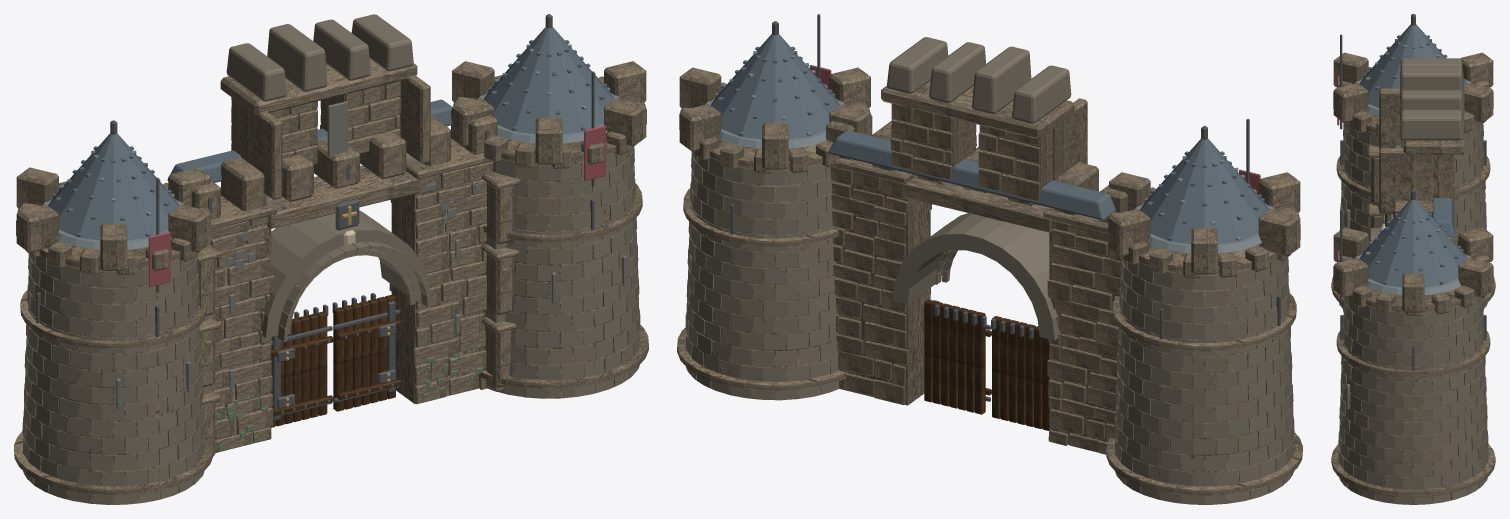
Rendered from valoria_gate_reference.glb.
The picture shows the model from 3 angles, left to right: view 1: azimuth 30°, elevation 25°; view 2: azimuth 150°, elevation 25°; view 3: azimuth 270°, elevation 25°; orthographic projection. The views are drawn at different scales.
Parts seen in each view (by area): view 1: arched_voussoir, ashlar_portal_outboard.007, gate_parapet_recessed_stone_hip, gate_flank_tower_recessed_drum, ashlar_portal_outboard.002, ashlar_portal_outboard.006, ashlar_portal_outboard, ashlar_portal_outboard.001, ashlar_portal_outboard.004, ashlar_portal_outboard.005, ashlar_portal_outboard.003, black_iron_strap.001 (+7 smaller); view 2: arched_voussoir, ashlar_portal_outboard.007, gate_parapet_recessed_stone_hip, ashlar_portal_outboard.002, gate_flank_tower_recessed_drum, ashlar_portal_outboard, ashlar_portal_outboard.001, ashlar_portal_outboard.004, ashlar_portal_outboard.005, ashlar_portal_outboard.003, ashlar_portal_outboard.006, vertical_oak_plank (+4 smaller); view 3: arched_voussoir, gate_parapet_recessed_stone_hip, ashlar_portal_outboard.002, gate_flank_tower_recessed_drum, ashlar_portal_outboard.003, ashlar_portal_outboard.007, ashlar_portal_outboard.006, ashlar_portal_outboard.001, ashlar_portal_outboard, ashlar_portal_outboard.005, ashlar_portal_outboard.004, slate_lap_tile (+2 smaller).
Boxes of the visible parts, <box> form: arched_voussoir: <box>14,61,648,495</box>; ashlar_portal_outboard.007: <box>22,43,639,492</box>; gate_parapet_recessed_stone_hip: <box>48,27,614,240</box>; gate_flank_tower_recessed_drum: <box>24,85,639,504</box>; ashlar_portal_outboard.002: <box>22,14,639,502</box>; ashlar_portal_outboard.006: <box>25,100,640,483</box>; ashlar_portal_outboard: <box>22,24,637,504</box>; ashlar_portal_outboard.001: <box>23,19,634,474</box>; ashlar_portal_outboard.004: <box>24,143,640,504</box>; ashlar_portal_outboard.005: <box>22,115,640,498</box>; ashlar_portal_outboard.003: <box>24,115,640,451</box>; black_iron_strap.001: <box>36,14,594,420</box>; arched_voussoir: <box>677,67,1302,495</box>; ashlar_portal_outboard.007: <box>686,65,1292,504</box>; gate_parapet_recessed_stone_hip: <box>710,34,1268,243</box>; ashlar_portal_outboard.002: <box>685,37,1294,504</box>; gate_flank_tower_recessed_drum: <box>686,118,1292,504</box>; ashlar_portal_outboard: <box>686,46,1294,486</box>; ashlar_portal_outboard.001: <box>686,42,1280,498</box>; ashlar_portal_outboard.004: <box>686,157,1294,492</box>; ashlar_portal_outboard.005: <box>685,135,1293,502</box>; ashlar_portal_outboard.003: <box>687,137,1292,486</box>; ashlar_portal_outboard.006: <box>686,124,1293,478</box>; vertical_oak_plank: <box>924,299,1049,430</box>; arched_voussoir: <box>1331,52,1495,497</box>; gate_parapet_recessed_stone_hip: <box>1359,24,1467,287</box>; ashlar_portal_outboard.002: <box>1341,109,1485,502</box>; gate_flank_tower_recessed_drum: <box>1341,128,1488,504</box>; ashlar_portal_outboard.003: <box>1339,122,1488,504</box>; ashlar_portal_outboard.007: <box>1339,58,1488,494</box>; ashlar_portal_outboard.006: <box>1338,140,1487,476</box>; ashlar_portal_outboard.001: <box>1338,90,1487,482</box>; ashlar_portal_outboard: <box>1338,66,1487,504</box>; ashlar_portal_outboard.005: <box>1338,130,1487,489</box>; ashlar_portal_outboard.004: <box>1340,122,1487,502</box>; slate_lap_tile: <box>1355,45,1471,294</box>.
Size of the model in its own units: 18.11 by 10.45 by 5.06.
Materials: 22 (13 with a texture image).
